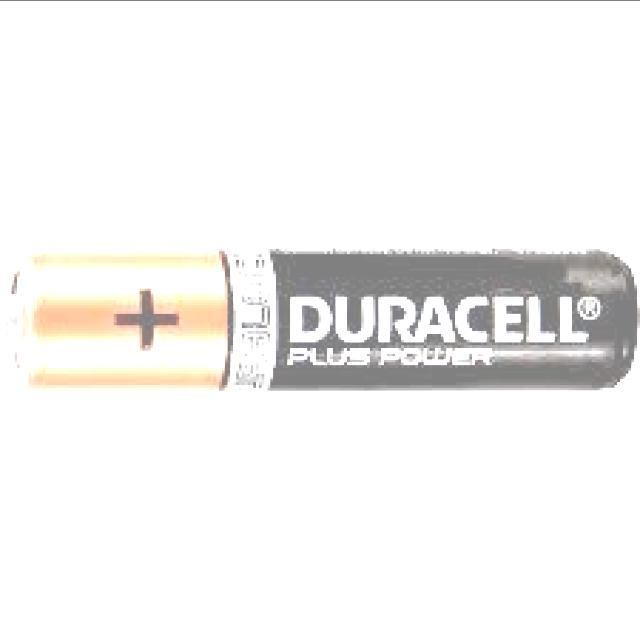AAA: (5, 231, 640, 401)
